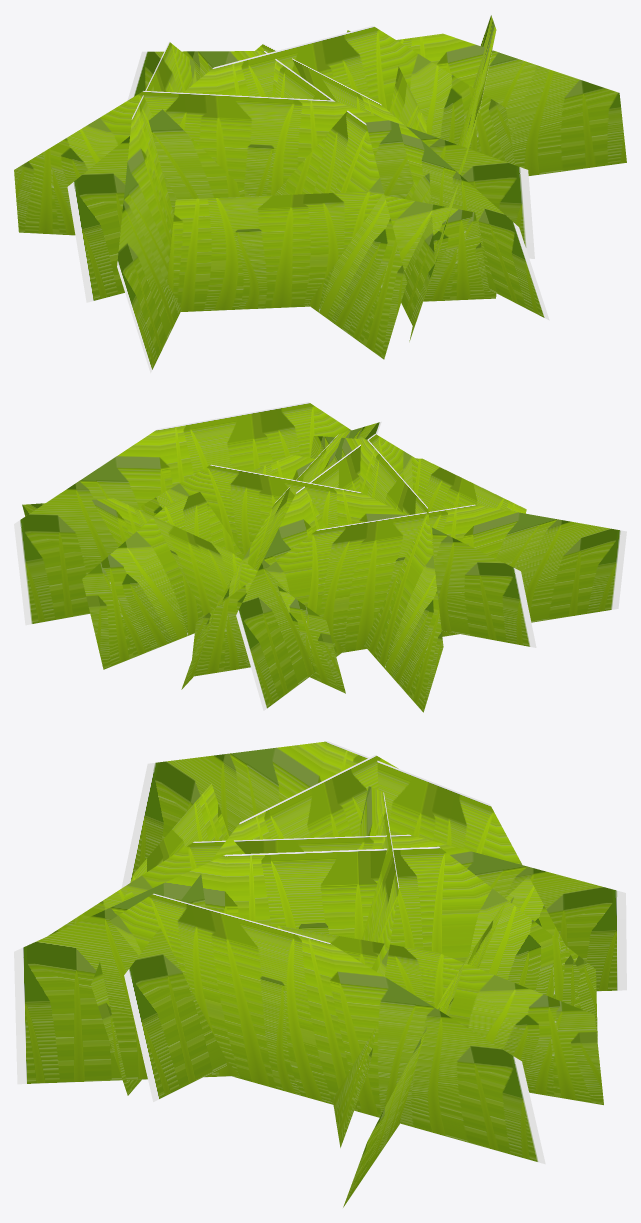
The model's file is SM_Grass_Medium02_Unity.fbx.
The picture shows the model from 3 angles, top to bottom: view 1: azimuth 30°, elevation 25°; view 2: azimuth 150°, elevation 25°; view 3: azimuth 270°, elevation 25°; orthographic projection. The views are drawn at different scales.
Visible parts, largest first — view 1: Grass_Medium02_LOD0; view 2: Grass_Medium02_LOD0; view 3: Grass_Medium02_LOD0.
Part boxes in pixels (box(x1,y1,x2,y2)): Grass_Medium02_LOD0: box(14, 15, 626, 373); Grass_Medium02_LOD0: box(14, 402, 626, 712); Grass_Medium02_LOD0: box(14, 741, 626, 1207).
Size of what is drawn, in the model's own units: 2.41 by 0.7298 by 1.9.
